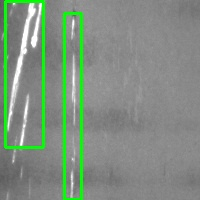scratches: (5, 1, 43, 147), (64, 13, 81, 199)
